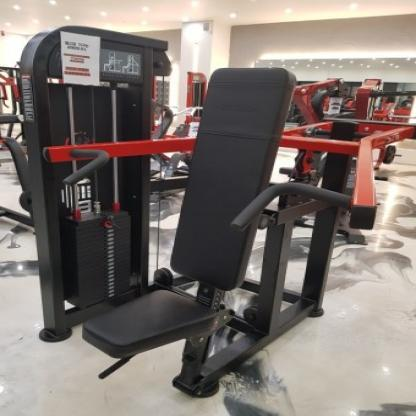shoulder press machine: (1, 22, 416, 416)
